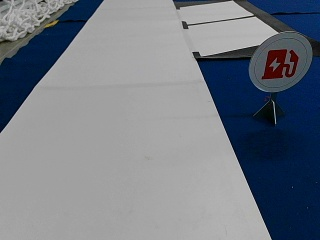battery: (248, 32, 312, 92)
